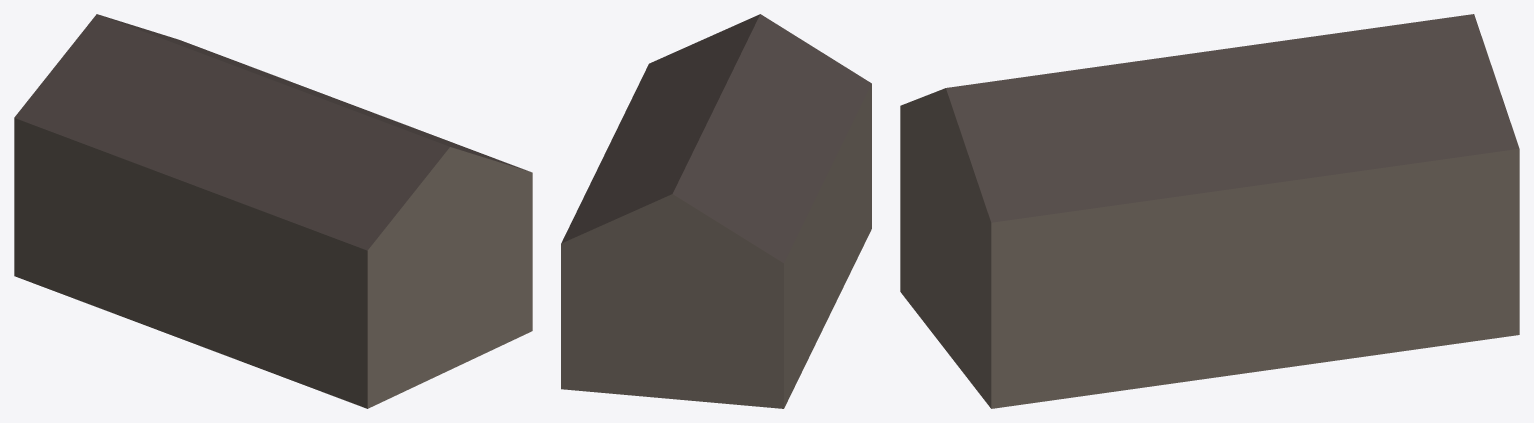
The picture shows the model from 3 angles, left to right: view 1: azimuth 30°, elevation 25°; view 2: azimuth 150°, elevation 25°; view 3: azimuth 270°, elevation 25°; orthographic projection. The views are drawn at different scales.
Visible parts, largest first — view 1: HP-w859078965; view 2: HP-w859078965; view 3: HP-w859078965.
Boxes of the visible parts, x1,y1,x2,y2 form: HP-w859078965: (14, 14, 532, 408); HP-w859078965: (561, 14, 871, 408); HP-w859078965: (900, 14, 1519, 408).
Size of the model in its own units: 19.8 by 12.69 by 27.12.
